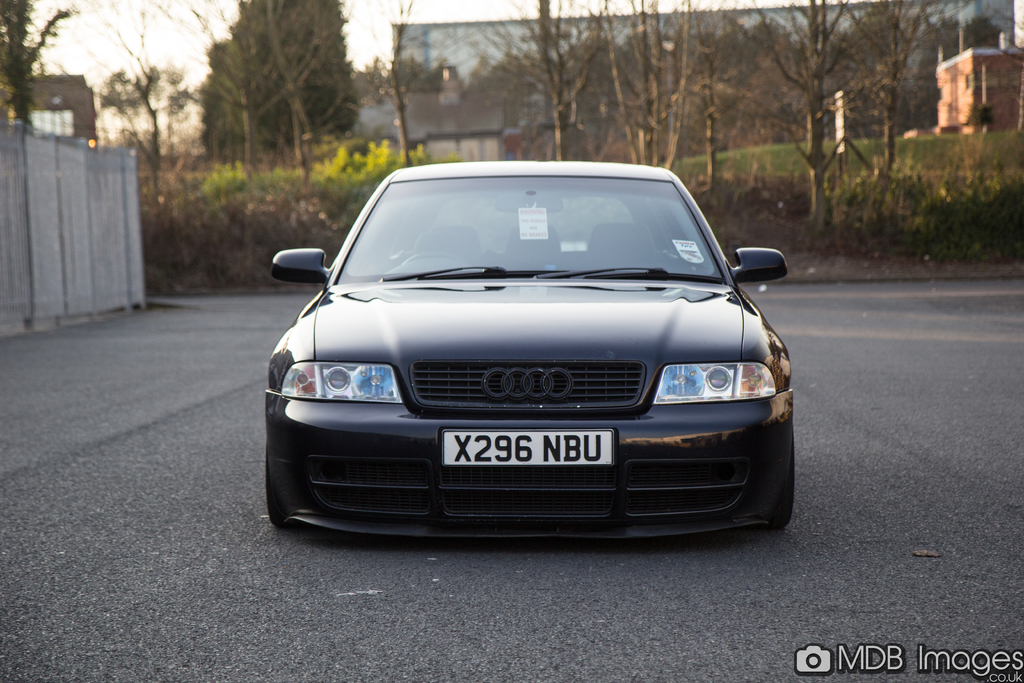Car: (272, 162, 788, 542)
